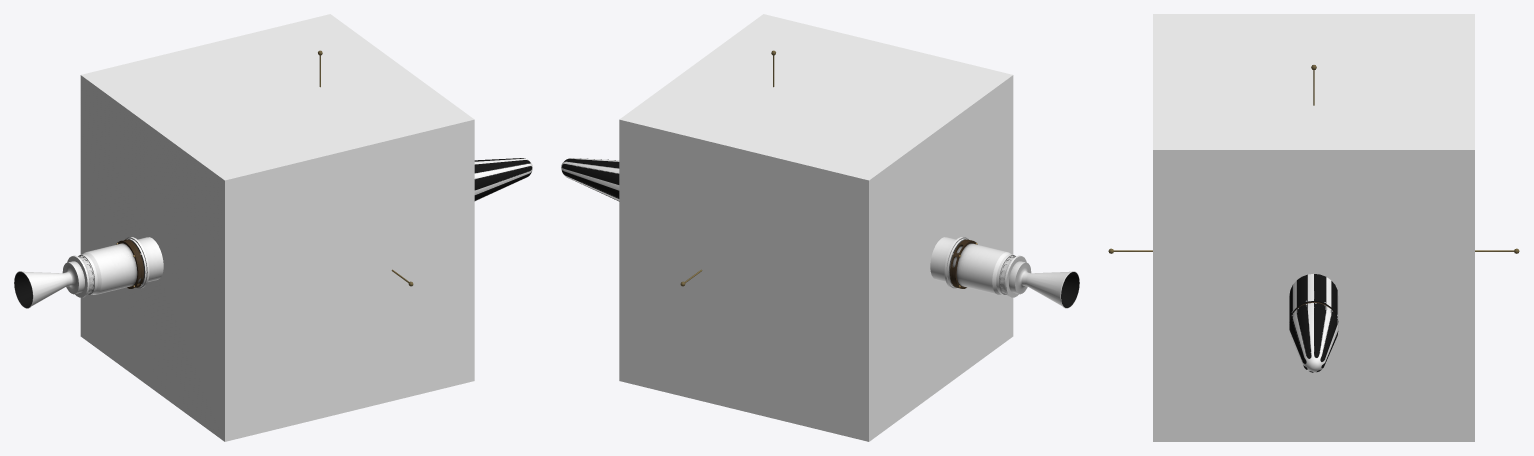
The model's file is explorer-1.glb.
3 renders of one model, left to right at view 1: azimuth 30°, elevation 25°; view 2: azimuth 150°, elevation 25°; view 3: azimuth 270°, elevation 25°, orthographic. The views are drawn at different scales.
Parts seen in each view (by area): view 1: _root, shiny_panel, tex_01; view 2: _root, shiny_panel, tex_01; view 3: _root, shiny_panel.
Part boxes in pixels (box(x1,y1,x2,y2)): _root: box(80, 14, 474, 441); shiny_panel: box(14, 158, 532, 308); tex_01: box(14, 50, 413, 307); _root: box(619, 14, 1013, 441); shiny_panel: box(561, 158, 1079, 308); tex_01: box(680, 50, 1079, 307); _root: box(1153, 14, 1474, 441); shiny_panel: box(1289, 274, 1338, 372).
Size of the model in its own units: 100 by 62.79 by 62.79.
3 materials, 3 textured.
